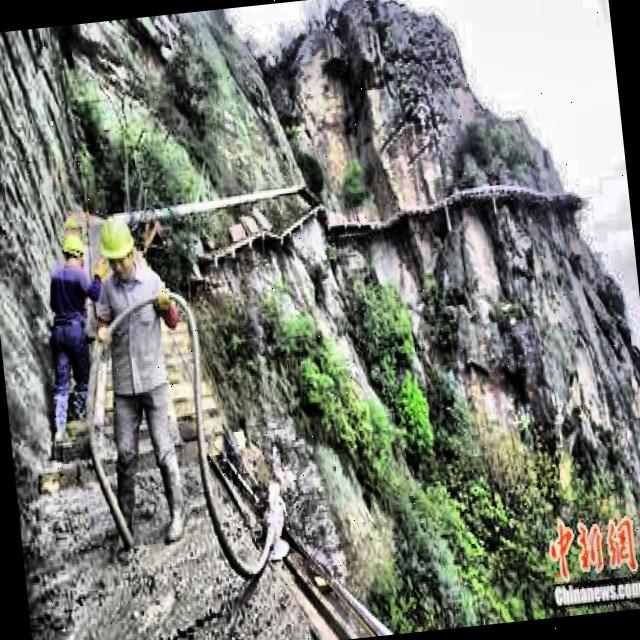helmet: (94, 211, 140, 276), (58, 228, 86, 275)
